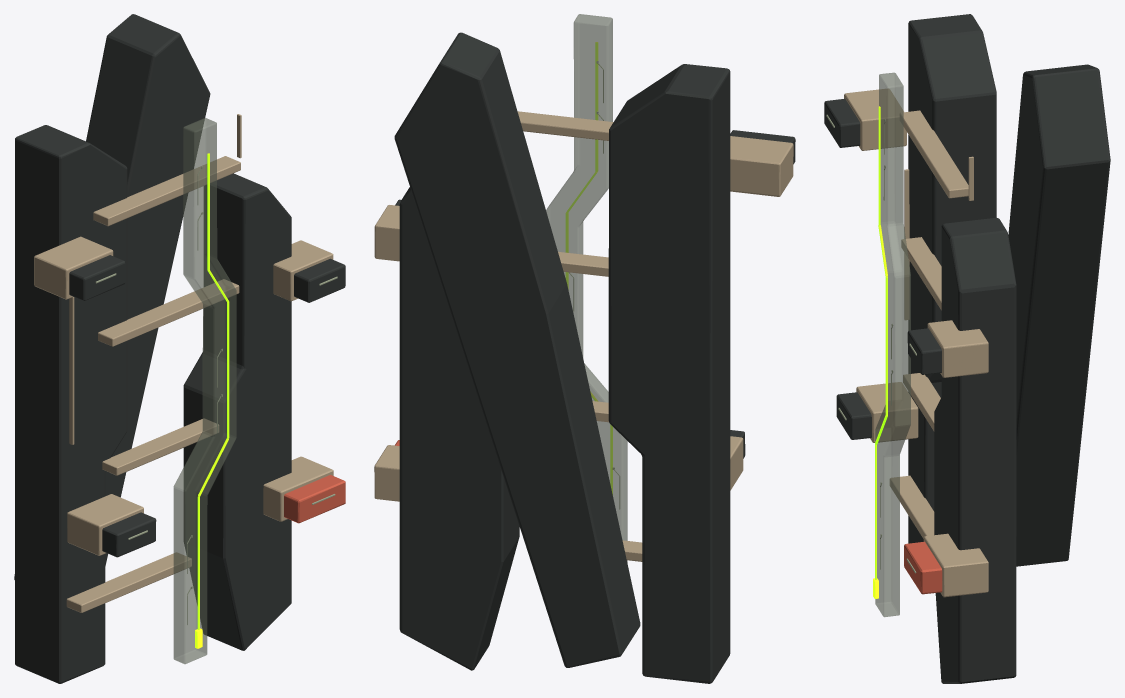
File: nexara-signal-loom-mobile.glb
3 renders of one model, left to right at view 1: azimuth 30°, elevation 25°; view 2: azimuth 150°, elevation 25°; view 3: azimuth 270°, elevation 25°, orthographic. The views are drawn at different scales.
Parts seen in each view (by area): view 1: Loom | Graphite ceramic.001, Loom | Warm brushed titanium.001, Loom | Smoked glass ribbon.001, Loom | Coral human layer.001, Loom | Lime signal emission.001, Loom | Etched internal conductors.001; view 2: Loom | Graphite ceramic.001, Loom | Smoked glass ribbon.001, Loom | Warm brushed titanium.001, Loom | Lime signal emission.001; view 3: Loom | Graphite ceramic.001, Loom | Warm brushed titanium.001, Loom | Smoked glass ribbon.001, Loom | Coral human layer.001, Loom | Lime signal emission.001.
Boxes of the visible parts, <box> form: Loom | Graphite ceramic.001: <box>14,14,345,683</box>; Loom | Warm brushed titanium.001: <box>34,114,333,612</box>; Loom | Smoked glass ribbon.001: <box>173,118,236,663</box>; Loom | Coral human layer.001: <box>284,475,345,523</box>; Loom | Lime signal emission.001: <box>197,153,229,629</box>; Loom | Etched internal conductors.001: <box>95,166,337,624</box>; Loom | Graphite ceramic.001: <box>394,32,795,683</box>; Loom | Smoked glass ribbon.001: <box>546,14,627,562</box>; Loom | Warm brushed titanium.001: <box>374,111,793,561</box>; Loom | Lime signal emission.001: <box>566,42,612,493</box>; Loom | Graphite ceramic.001: <box>824,14,1110,683</box>; Loom | Warm brushed titanium.001: <box>844,88,988,597</box>; Loom | Smoked glass ribbon.001: <box>875,72,910,616</box>; Loom | Coral human layer.001: <box>904,541,942,594</box>; Loom | Lime signal emission.001: <box>875,106,887,579</box>.
Size of the model in its own units: 0.6038 by 1.04 by 0.4498.
